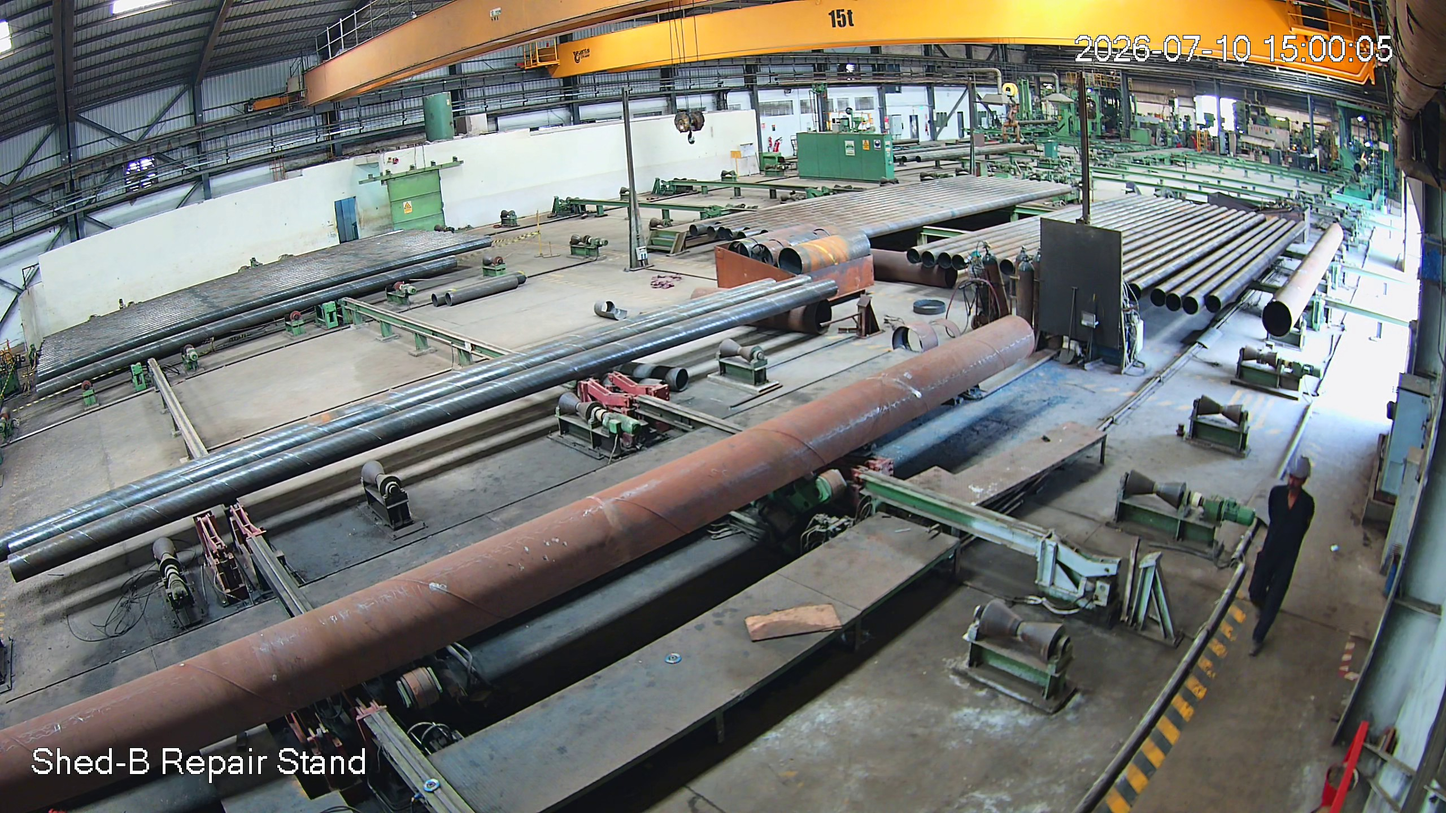Helmet: (1274, 440, 1334, 508)
Person: (1243, 454, 1325, 663)
